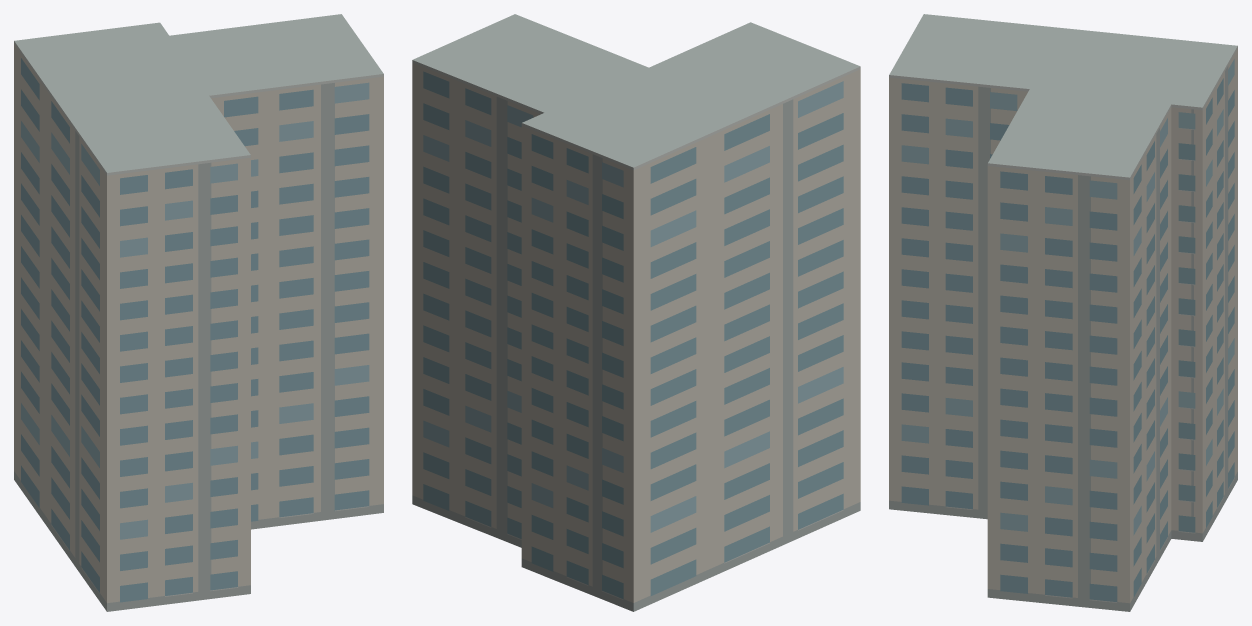
The model's file is residential-5ca2f48c-479c-4d06-ac89-505bbd86fd43.glb.
The picture shows the model from 3 angles, left to right: view 1: azimuth 30°, elevation 25°; view 2: azimuth 150°, elevation 25°; view 3: azimuth 270°, elevation 25°; orthographic projection. The views are drawn at different scales.
Parts seen in each view (by area): view 1: residential-5ca2f48c-479c-4d06-ac89-505bbd86fd43.tmp; view 2: residential-5ca2f48c-479c-4d06-ac89-505bbd86fd43.tmp; view 3: residential-5ca2f48c-479c-4d06-ac89-505bbd86fd43.tmp.
Boxes of the visible parts, left/top/right/bottom form: residential-5ca2f48c-479c-4d06-ac89-505bbd86fd43.tmp: left=14, top=14, right=383, bottom=611; residential-5ca2f48c-479c-4d06-ac89-505bbd86fd43.tmp: left=412, top=14, right=860, bottom=611; residential-5ca2f48c-479c-4d06-ac89-505bbd86fd43.tmp: left=889, top=14, right=1237, bottom=611.
Bounding box in the file's own units: 31.52 × 39 × 28.39.
